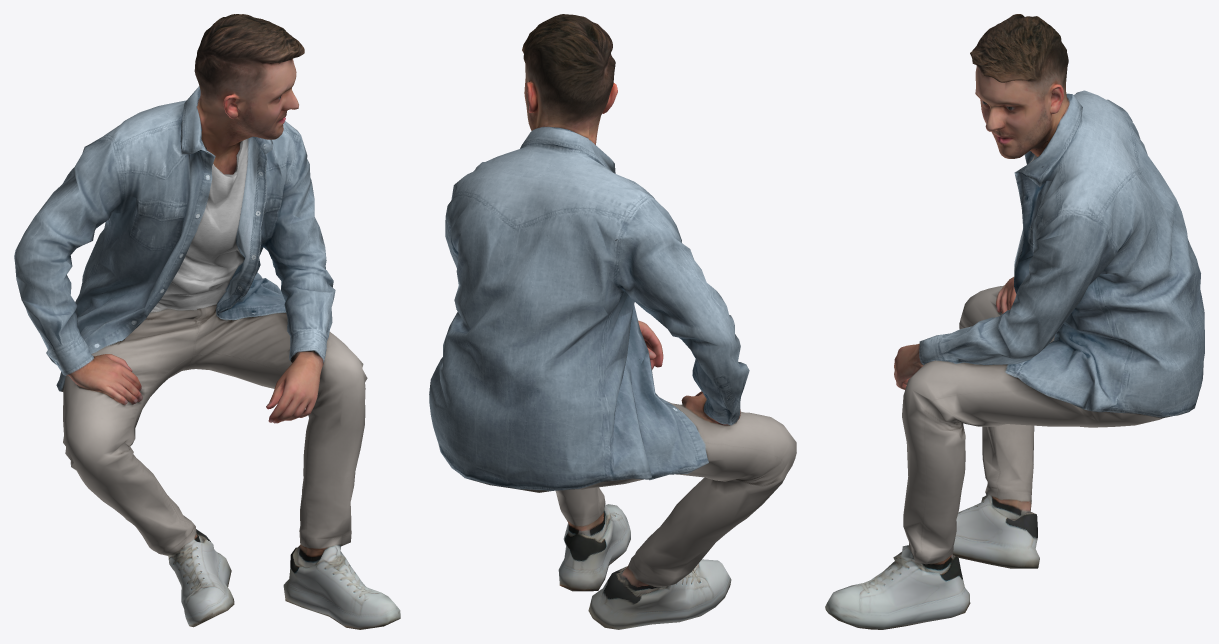
File: Humano_Posed_0341842-Man_02_LOD2.fbx
3 views of the same model, side by side, from view 1: azimuth 30°, elevation 25°; view 2: azimuth 150°, elevation 25°; view 3: azimuth 270°, elevation 25° (orthographic). The views are drawn at different scales.
Visible parts, largest first — view 1: Humano_Posed_0341842-Man_02_LOD2; view 2: Humano_Posed_0341842-Man_02_LOD2; view 3: Humano_Posed_0341842-Man_02_LOD2.
Boxes of the visible parts, bbox=[...] form: Humano_Posed_0341842-Man_02_LOD2: bbox=[14, 14, 400, 629]; Humano_Posed_0341842-Man_02_LOD2: bbox=[429, 14, 796, 629]; Humano_Posed_0341842-Man_02_LOD2: bbox=[825, 14, 1204, 629].
Size of the model in its own units: 69.61 by 134 by 80.11.
Materials: 1 (1 with a texture image).
